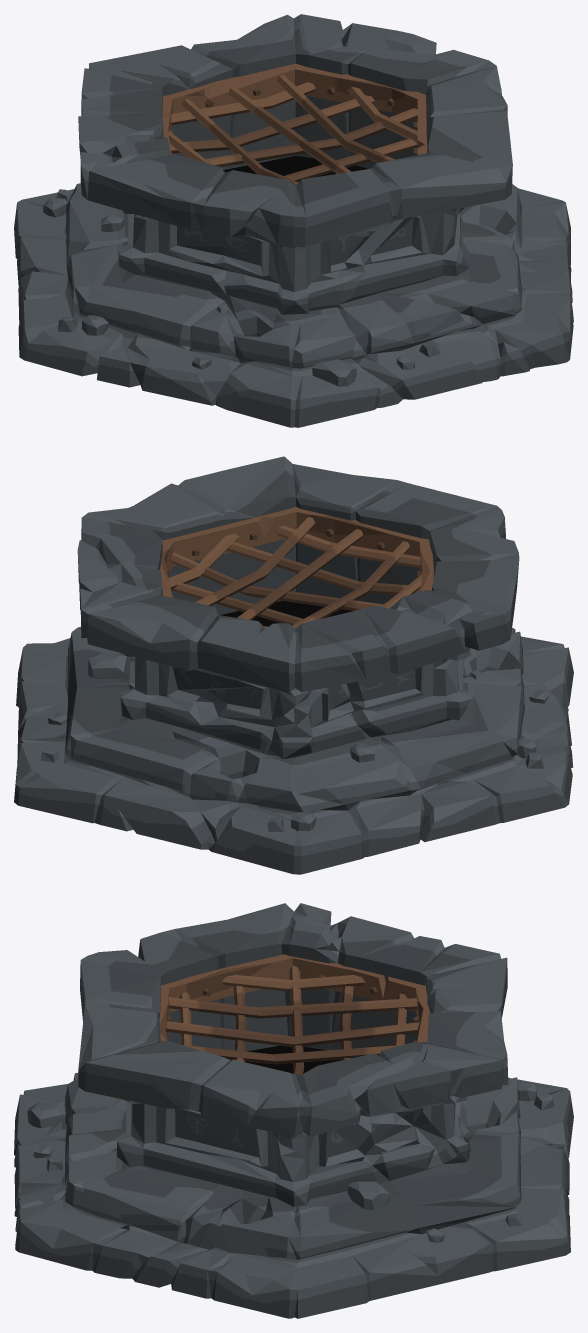
The model's file is crypt_well.gltf.
The picture shows the model from 3 angles, top to bottom: view 1: azimuth 30°, elevation 25°; view 2: azimuth 150°, elevation 25°; view 3: azimuth 270°, elevation 25°; orthographic projection.
Visible parts, largest first — view 1: crypt_well; view 2: crypt_well; view 3: crypt_well.
Boxes of the visible parts, x1,y1,x2,y2 form: crypt_well: [14, 14, 573, 427]; crypt_well: [14, 456, 573, 874]; crypt_well: [14, 903, 573, 1318].
Size of the model in its own units: 3.64 by 1.16 by 3.21.
Materials: 1 (1 with a texture image).
